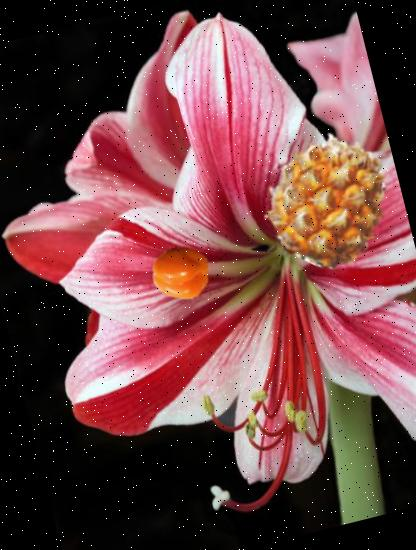Pepper: (146, 238, 218, 310)
Pineapple: (250, 120, 410, 280)
